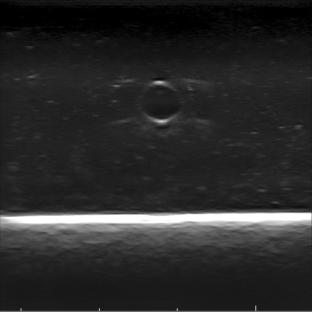vessel: (138, 79, 184, 126)
